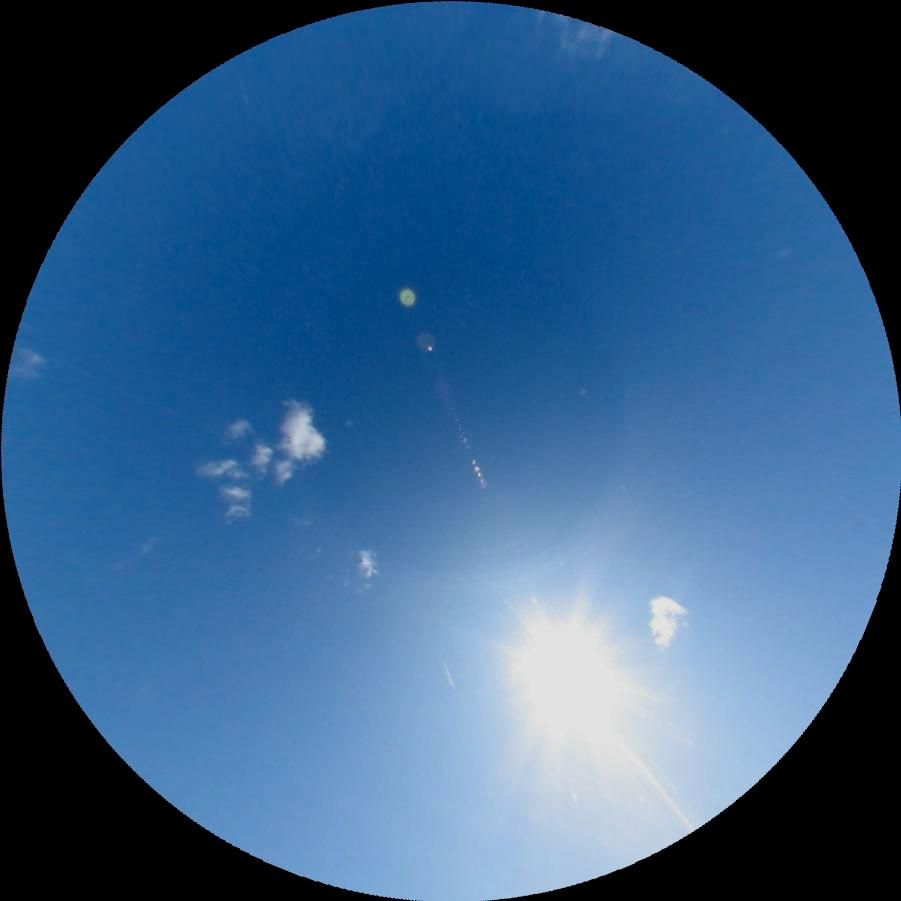contrail young: (437, 656, 455, 687)
parasite: (599, 715, 696, 833)
sun: (499, 605, 643, 740)
